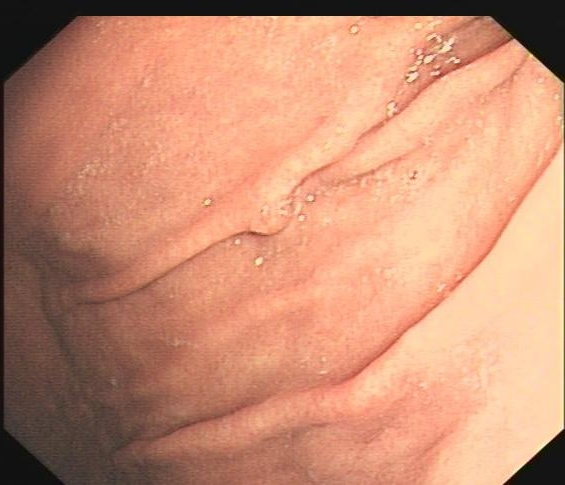Polyp: (226, 191, 311, 260)
